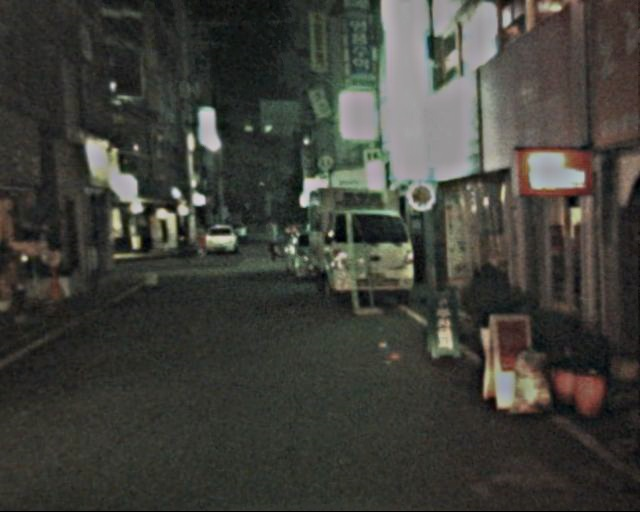person: (259, 216, 282, 266)
